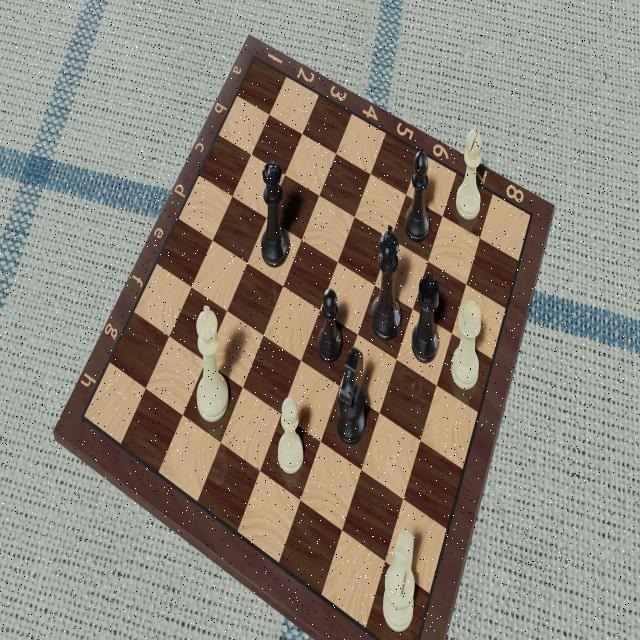black-bishop: (404, 144, 431, 243)
black-king: (369, 222, 402, 341)
black-knight: (335, 346, 366, 446)
black-pawn: (316, 287, 343, 364)
black-queen: (259, 159, 290, 269)
black-rook: (411, 272, 441, 365)
white-bishop: (455, 123, 481, 220)
white-king: (196, 303, 230, 424)
white-knight: (382, 527, 416, 633)
white-pawn: (277, 396, 305, 476)
white-rook: (450, 298, 482, 391)
